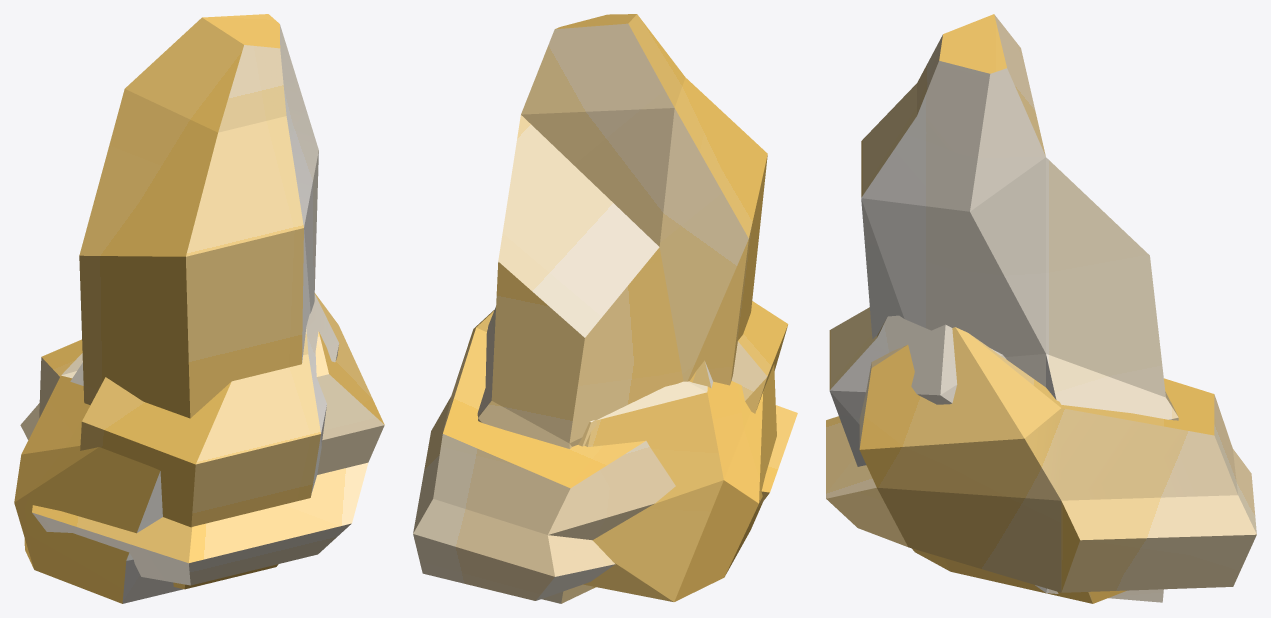
File: DwayneJohnson_MESH.FBX
3 views of the same model, side by side, from view 1: azimuth 30°, elevation 25°; view 2: azimuth 150°, elevation 25°; view 3: azimuth 270°, elevation 25° (orthographic). The views are drawn at different scales.
Visible parts, largest first — view 1: Rock_MESH_03, Rock_MESH_04, Rock_MESH_02, Rock_MESH_005; view 2: Rock_MESH_03, Rock_MESH_02, Rock_MESH_005, Rock_MESH_04; view 3: Rock_MESH_02, Rock_MESH_03, Rock_MESH_04, Rock_MESH_005.
Part boxes in pixels (x1=…): Rock_MESH_03: x1=79, y1=14, x2=318, y2=418; Rock_MESH_04: x1=80, y1=294, x2=339, y2=589; Rock_MESH_02: x1=20, y1=293, x2=384, y2=585; Rock_MESH_005: x1=14, y1=353, x2=182, y2=603; Rock_MESH_03: x1=477, y1=14, x2=767, y2=603; Rock_MESH_02: x1=413, y1=310, x2=797, y2=600; Rock_MESH_005: x1=583, y1=364, x2=776, y2=601; Rock_MESH_04: x1=578, y1=301, x2=788, y2=446; Rock_MESH_02: x1=826, y1=327, x2=1256, y2=592; Rock_MESH_03: x1=861, y1=14, x2=1178, y2=602; Rock_MESH_04: x1=829, y1=307, x2=1006, y2=466; Rock_MESH_005: x1=912, y1=548, x2=1126, y2=603.
Bounding box in the file's own units: 661 × 1062 × 747.
1 material, 1 textured.
